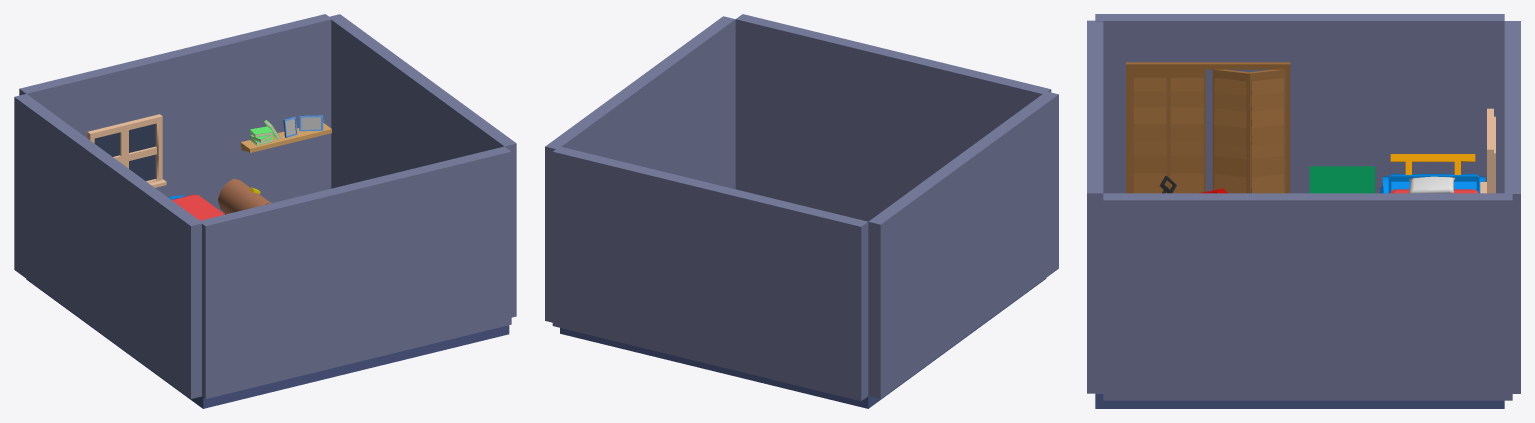
3 renders of one model, left to right at view 1: azimuth 30°, elevation 25°; view 2: azimuth 150°, elevation 25°; view 3: azimuth 270°, elevation 25°, orthographic. The views are drawn at different scales.
Parts seen in each view (by area): view 1: Diorama_Set1_lambert1_0.001_55, Diorama_Set1_lambert1_0_23, Diorama_Set1_Diorama_Set_0_22, pCube37_Window_Blinn_0_25, Chest_Mesh_Chest_Blinn_0_16, Shelf_Mesh_Shelf_Blinn_0_35, Racecar_Bed_Mesh_Racecar_0_31; view 2: Diorama_Set1_lambert1_0_23, Diorama_Set1_lambert1_0.001_55, Diorama_Set1_Diorama_Set_0_22; view 3: Diorama_Set1_lambert1_0.001_55, Diorama_Set1_lambert1_0_23, Closet_Doors_Mesh_Closet_Doors_Blinn_0_20, Diorama_Set1_Diorama_Set_0_22, Racecar_Bed_Mesh_Racecar_0_31, Child_Dresser_Mesh_Dresser_Blinn_0_18, pCube37_Window_Blinn_0_25.
Part boxes in pixels (x1,y1,x2,y2): Diorama_Set1_lambert1_0.001_55: [200, 14, 516, 399]; Diorama_Set1_lambert1_0_23: [14, 14, 332, 398]; Diorama_Set1_Diorama_Set_0_22: [26, 279, 509, 408]; pCube37_Window_Blinn_0_25: [87, 114, 166, 187]; Chest_Mesh_Chest_Blinn_0_16: [218, 178, 271, 214]; Shelf_Mesh_Shelf_Blinn_0_35: [240, 123, 331, 152]; Racecar_Bed_Mesh_Racecar_0_31: [169, 194, 224, 220]; Diorama_Set1_lambert1_0_23: [552, 91, 1058, 400]; Diorama_Set1_lambert1_0.001_55: [545, 14, 1051, 322]; Diorama_Set1_Diorama_Set_0_22: [560, 278, 1046, 408]; Diorama_Set1_lambert1_0.001_55: [1087, 20, 1512, 400]; Diorama_Set1_lambert1_0_23: [1095, 14, 1520, 393]; Closet_Doors_Mesh_Closet_Doors_Blinn_0_20: [1126, 62, 1290, 193]; Diorama_Set1_Diorama_Set_0_22: [1095, 393, 1504, 408]; Racecar_Bed_Mesh_Racecar_0_31: [1380, 154, 1485, 193]; Child_Dresser_Mesh_Dresser_Blinn_0_18: [1309, 166, 1374, 193]; pCube37_Window_Blinn_0_25: [1480, 108, 1495, 193].
Bounding box in the file's own units: 26.9 × 14.5 × 26.5.
Materials: 14 (8 with a texture image).
